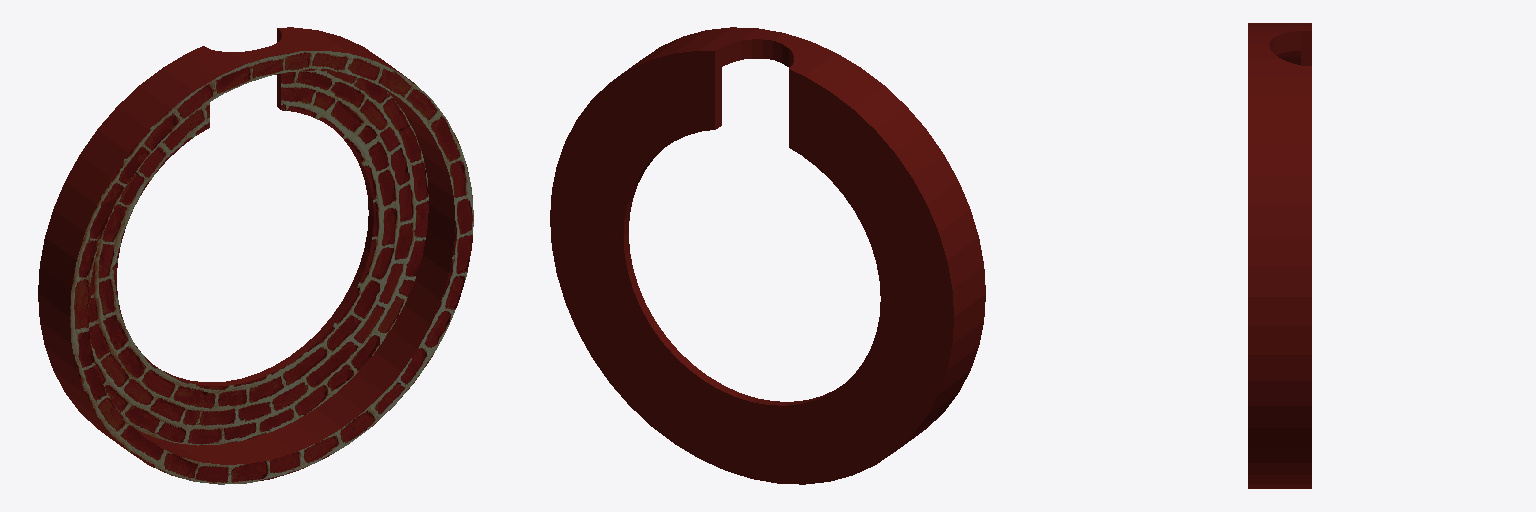
The picture shows the model from 3 angles: view 1: azimuth 30°, elevation 25°; view 2: azimuth 150°, elevation 25°; view 3: azimuth 270°, elevation 25°; orthographic projection.
Bounding box in the file's own units: 22 × 22 × 3.
1 materials, 1 textured.